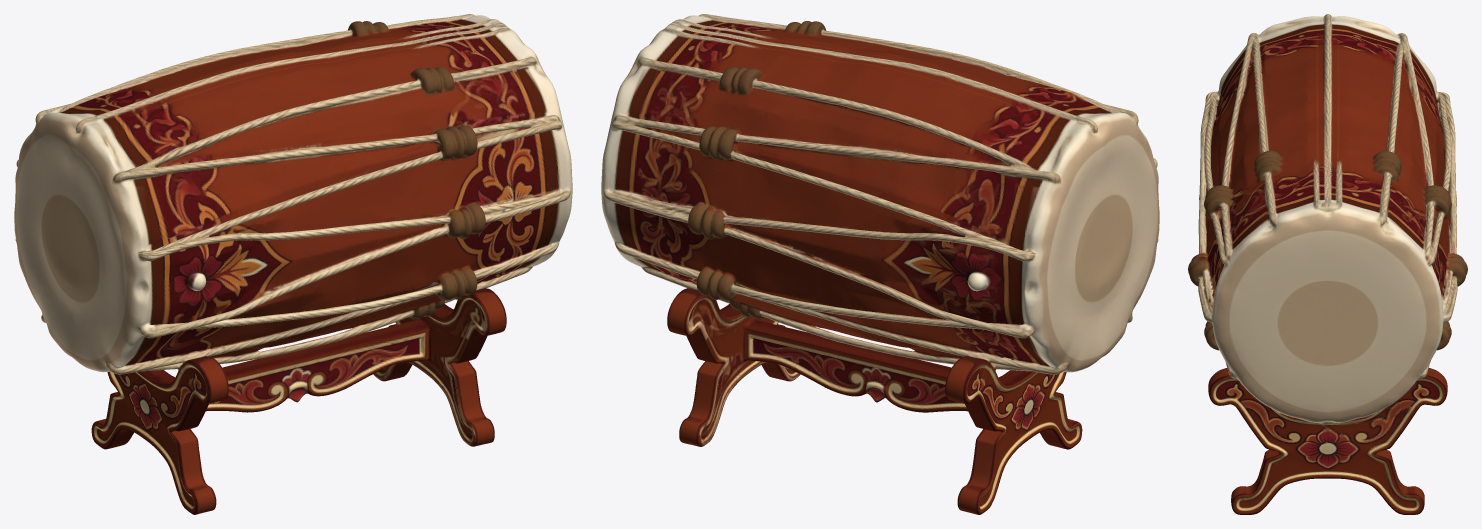
File: Kendang.glb
3 renders of one model, left to right at view 1: azimuth 30°, elevation 25°; view 2: azimuth 150°, elevation 25°; view 3: azimuth 270°, elevation 25°, orthographic. The views are drawn at different scales.
Size of the model in its own units: 1.9 by 1.57 by 1.12.
1 material, 1 textured.
